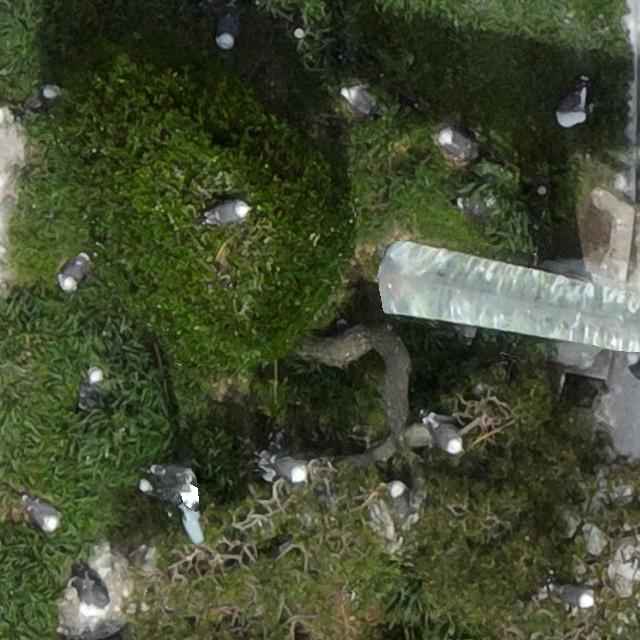umineko: (558, 80, 590, 135), (76, 579, 110, 623), (388, 480, 409, 538), (430, 420, 461, 454), (434, 128, 474, 153), (554, 584, 595, 606), (30, 500, 60, 530), (60, 255, 86, 288), (266, 460, 305, 482), (217, 10, 239, 48), (208, 201, 248, 221), (344, 88, 373, 114), (88, 368, 110, 400), (138, 480, 163, 496)
